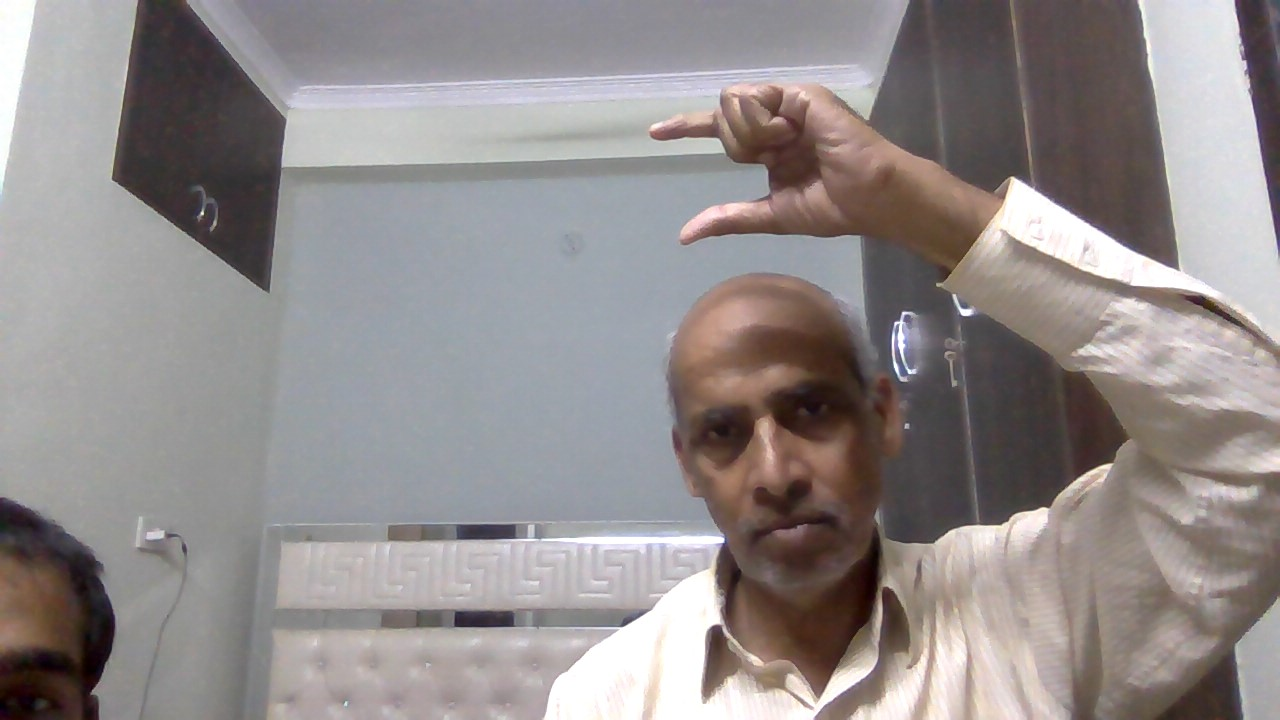Paste: (635, 76, 904, 273)
